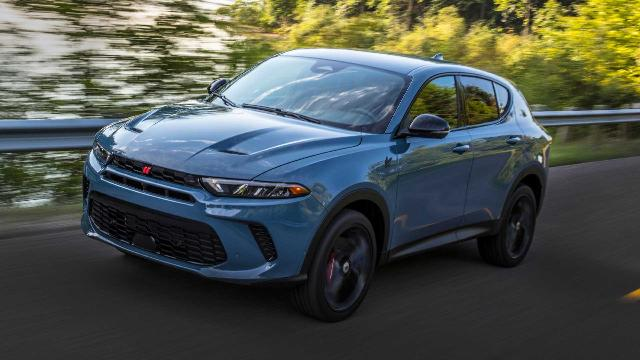dodge: (80, 46, 552, 322)
